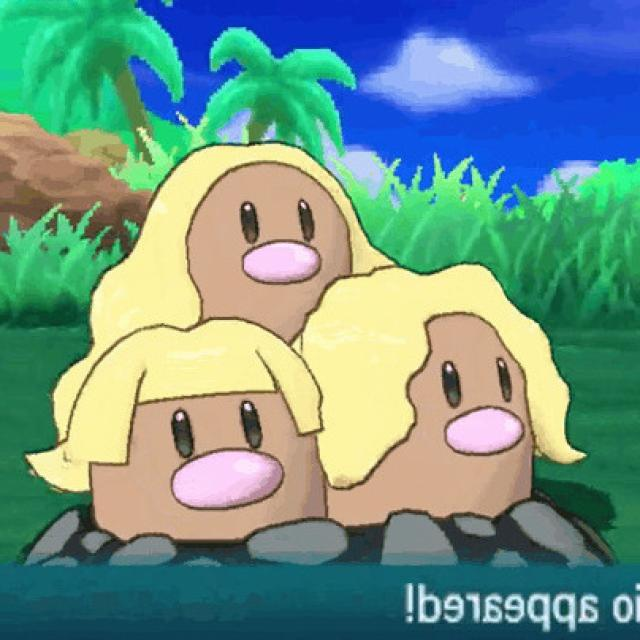Dugtrio: (90, 147, 540, 545)
